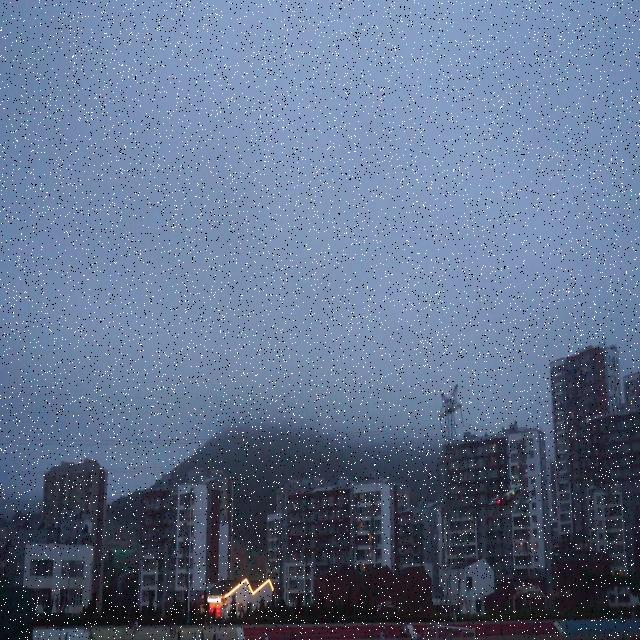UAV: (487, 482, 521, 505)
